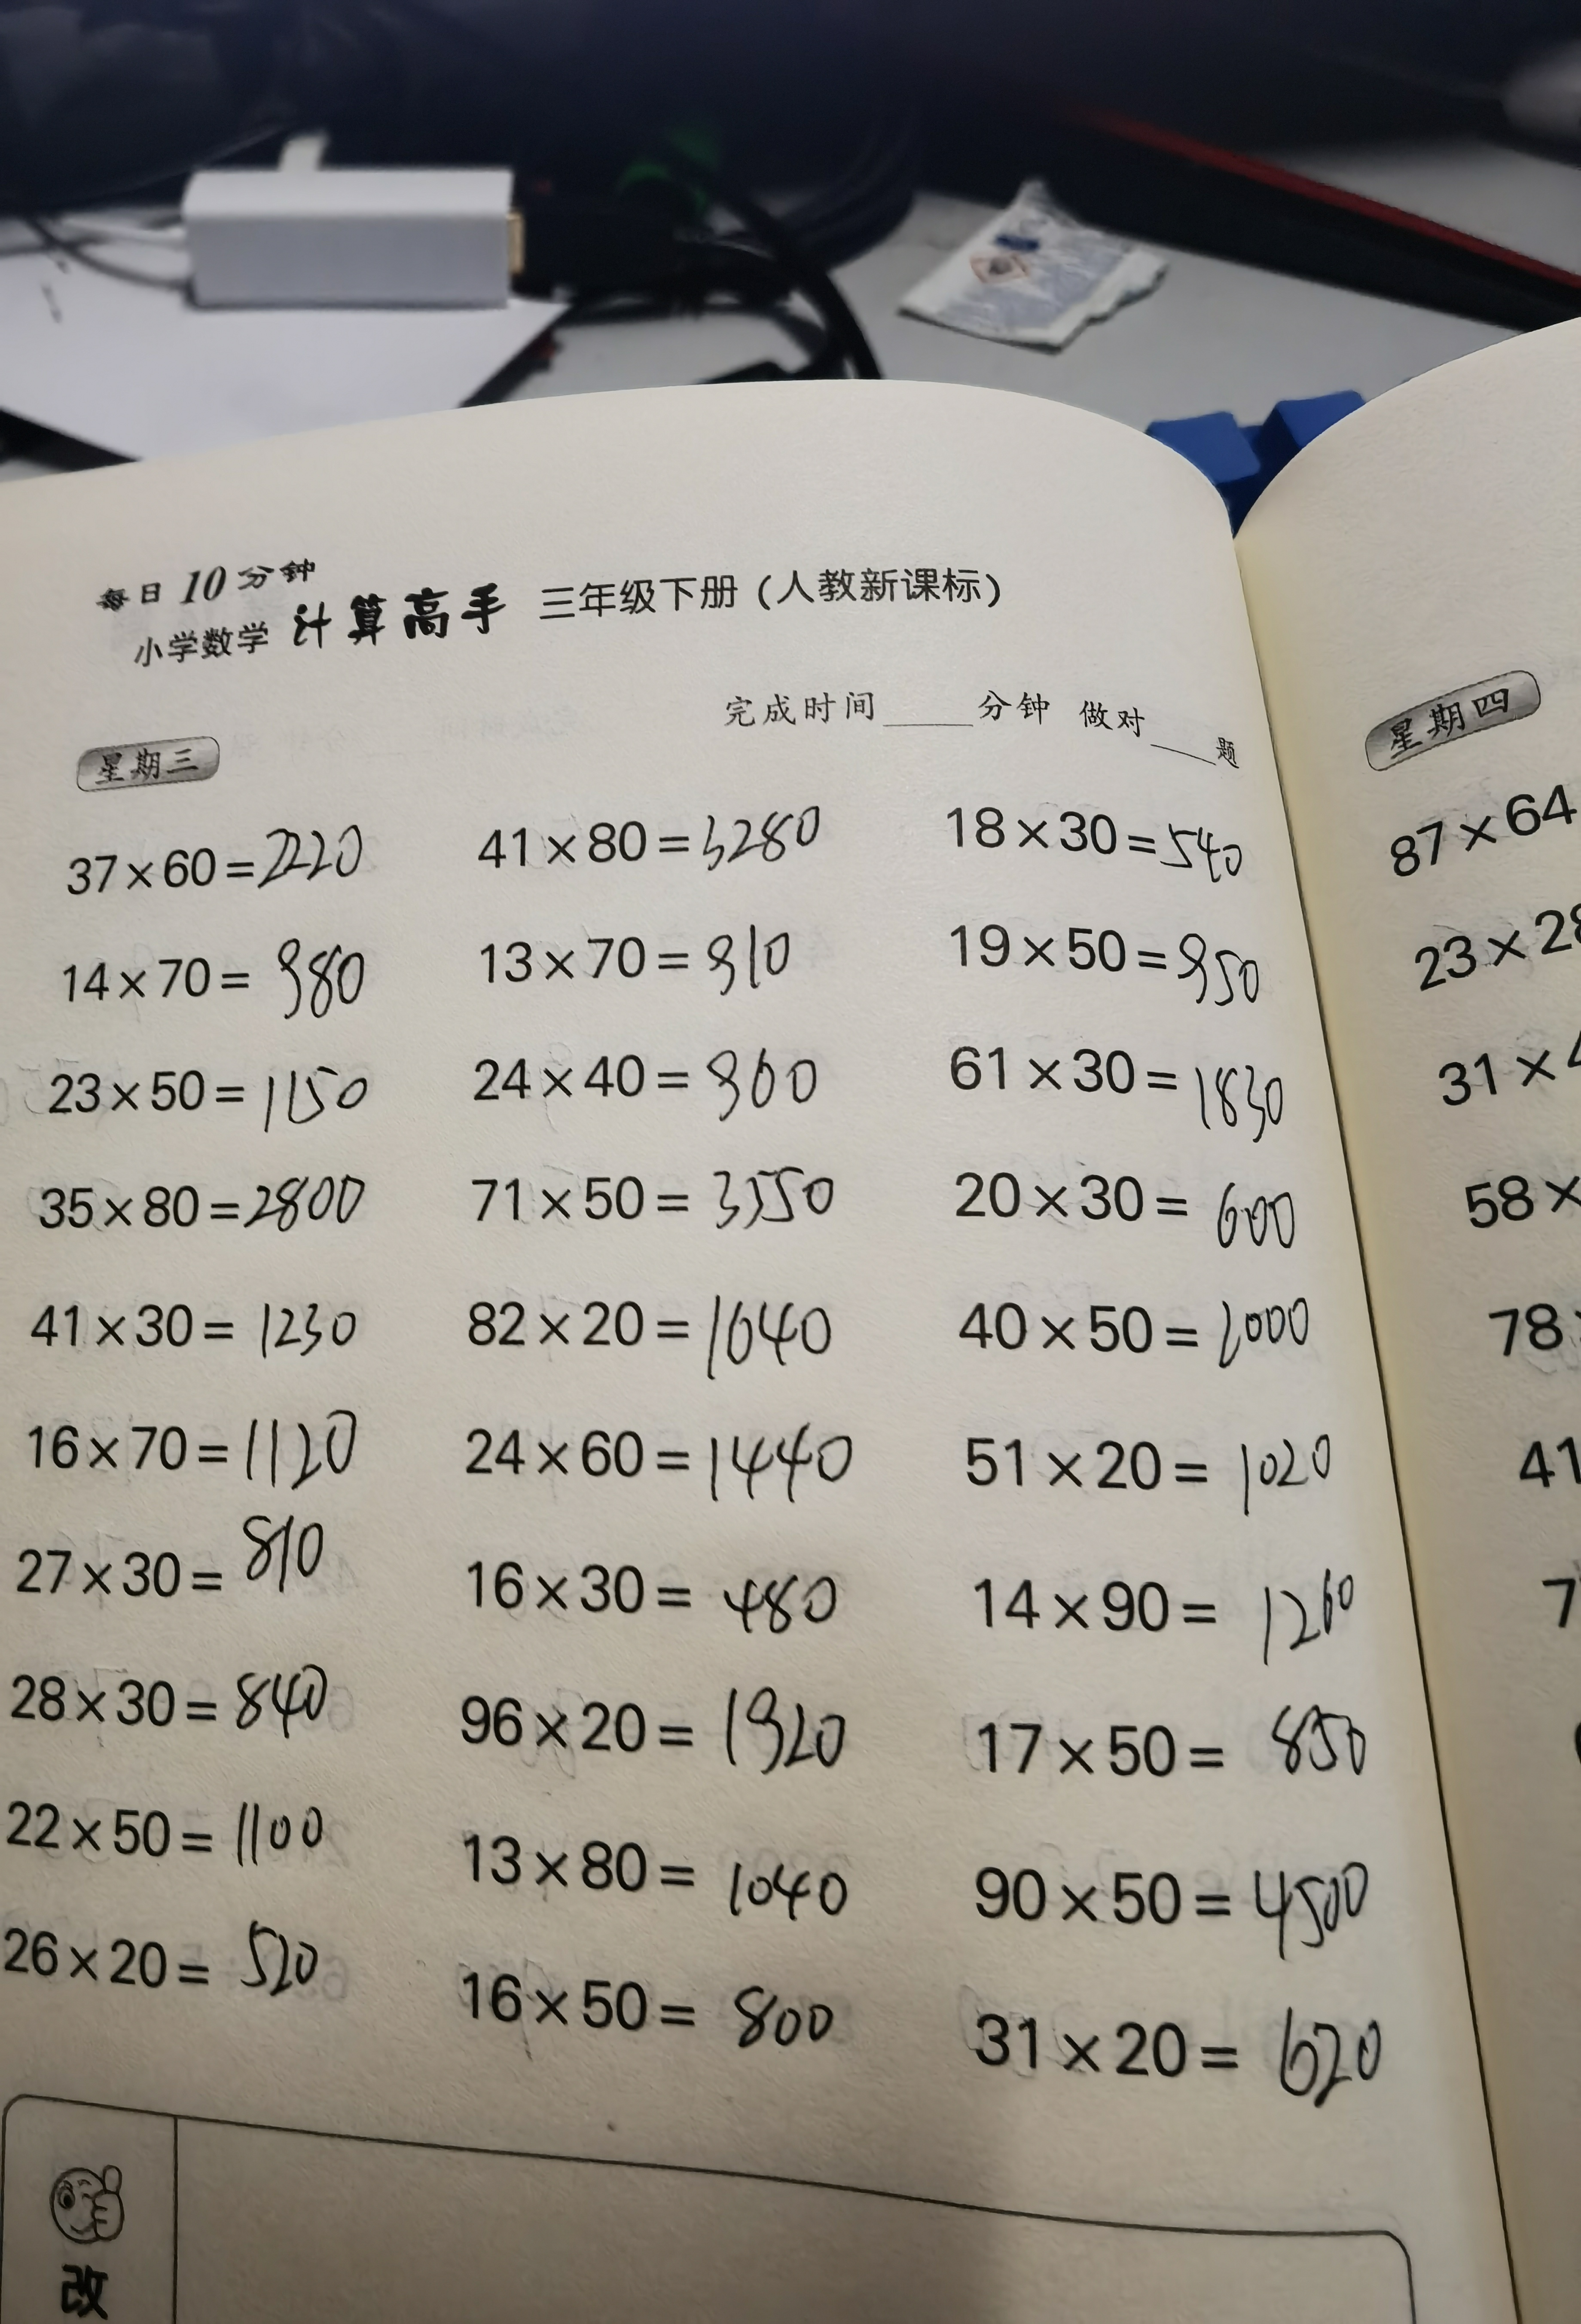equation: (949, 1969, 1449, 2118), (946, 1825, 1417, 1964), (443, 1279, 893, 1412), (420, 1798, 884, 1922), (439, 1934, 877, 2063), (445, 1514, 877, 1643), (445, 1405, 902, 1523), (937, 1399, 1371, 1521), (425, 1015, 880, 1128), (955, 1556, 1399, 1669), (450, 1671, 910, 1777), (953, 1692, 1396, 1800), (926, 1027, 1322, 1143), (937, 884, 1290, 1013), (12, 1899, 362, 2028), (446, 1151, 858, 1260), (443, 902, 880, 1002), (930, 1149, 1309, 1263), (12, 1768, 365, 1890), (939, 1281, 1345, 1385), (4, 1398, 395, 1502), (448, 791, 866, 884), (7, 1526, 393, 1627), (16, 1650, 383, 1756), (12, 1283, 409, 1371), (910, 791, 1262, 889), (12, 1161, 397, 1251), (19, 1052, 381, 1147), (11, 801, 379, 893), (35, 937, 402, 1029)
